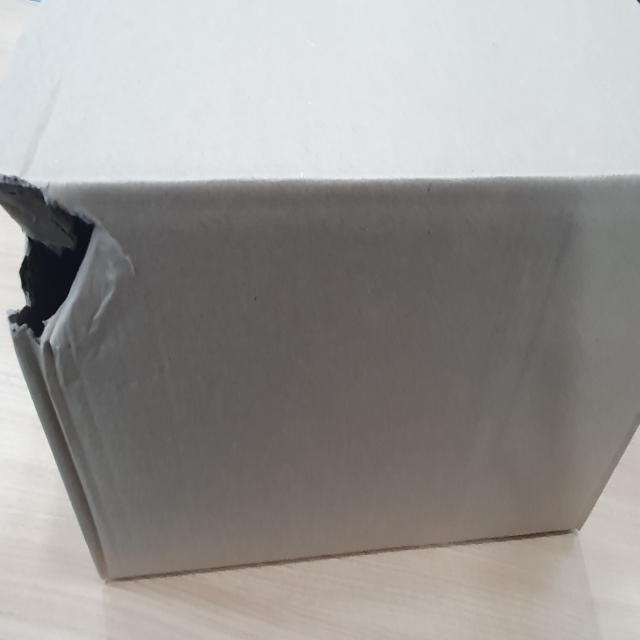hole: (4, 169, 98, 347)
